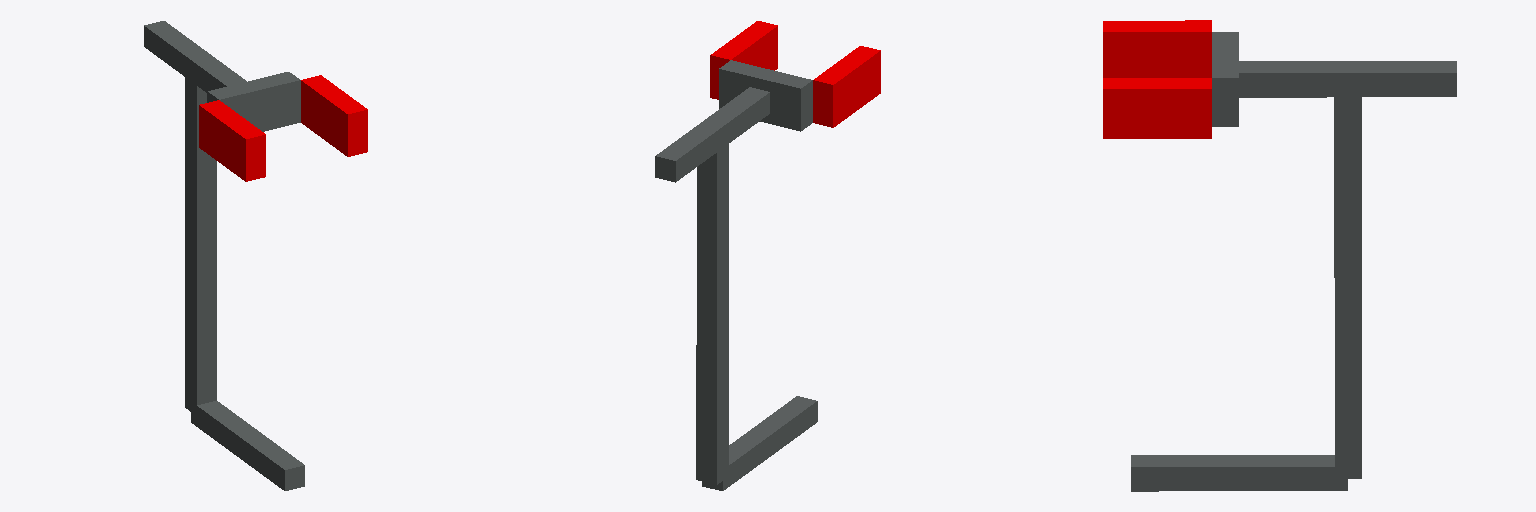
robot.urdf — robot:
<robot name="robot">
    <link name="world" />
    <joint name="base_joint" type="fixed">
        <origin xyz="0 0 0" rpy="-1.57 0 0" />
        <parent link="world" />
        <child link="base" />
    </joint>
    <link name="base">
        <collision>
            <origin xyz="0 0 0" rpy="0 -0 0" />
            <geometry>
                <box size="0.1 0.1 0.8" />
            </geometry>
        </collision>
        <visual>
            <origin xyz="0 0 0" rpy="0 -0 0" />
            <geometry>
                <box size="0.1 0.1 0.8" />
            </geometry>
            <material name="">
                <color rgba="0.403 0.424 0.420 1"/>
            </material>
        </visual>
    </link>
    <joint name="link1_joint" type="revolute">
        <origin xyz="0 0 0.4" rpy="0 1.5708 3.14159" />
        <parent link="base" />
        <child link="link1" />
        <limit effort="0" velocity="0" lower="-3.14159" upper="3.14159" />
    </joint>
    <link name="link1">
        <collision>
            <origin xyz="-0.0 0.4 0" rpy="3.14159 -1.5708 3.14159" />
            <geometry>
                <box size="0.1 0.8 0.1" />
            </geometry>
        </collision>
        <visual>
            <origin xyz="-0.0 0.4 0" rpy="3.14159 -1.5708 3.14159" />
            <geometry>
                <box size="0.1 0.8 0.1" />
            </geometry>
            <material name="">
                <color rgba="0.403 0.424 0.420 1"/>
            </material>
        </visual>
    </link>
    <joint name="link2_joint" type="revolute">
        <origin xyz="-0.0 0.8 0" rpy="0 -0 0" />
        <parent link="link1" />
        <child link="link2" />
        <limit effort="0" velocity="0" lower="-3.14159" upper="3.14159" />
    </joint>
    <link name="link2">
        <collision>
            <origin xyz="-0.0 0.4 0" rpy="3.14159 -1.5708 3.14159" />
            <geometry>
                <box size="0.1 0.8 0.1" />
            </geometry>
        </collision>
        <visual>
            <origin xyz="-0.0 0.4 0" rpy="3.14159 -1.5708 3.14159" />
            <geometry>
                <box size="0.1 0.8 0.1" />
            </geometry>
            <material name="">
                <color rgba="0.403 0.424 0.420 1"/>
            </material>
        </visual>
    </link>
    <joint name="link3_joint" type="prismatic">
        <origin xyz="-0.0 0.8 0" rpy="0 -0 0" />
        <parent link="link2" />
        <child link="link3" />
        <limit effort="0" velocity="0" lower="-0.2" upper="0.15" />
    </joint>
    <link name="link3">
        <collision>
            <origin xyz="0 0 0" rpy="1.5708 -1.5708 3.14159" />
            <geometry>
                <!-- <capsule radius="0.2"length="2" /> -->
                <box size="0.1 0.8 0.1"/>
            </geometry>
        </collision>
        <visual>
            <origin xyz="0 0 0" rpy="1.5708 -1.5708 3.14159" />
            <geometry>
                <!-- <capsule radius="0.2"length="2" /> -->
                <box size="0.1 0.8 0.1"/>
            </geometry>
            <material name="">
                <color rgba="0.403 0.424 0.420 1"/>
            </material>
        </visual>
    </link>
    <joint name="end_effctor_joint" type="revolute">
        <origin xyz="0.4 0 0" rpy="1.5708 -0 3.14159" />
        <parent link="link3" />
        <child link="end_effector" />
        <limit effort="0" velocity="0" lower="-3.14159" upper="3.14159" />
    </joint>
    <link name="end_effector">
        <collision>
            <origin xyz="-0.05 0 0" rpy="0 1.5708 0" />
            <geometry>
                <box size="0.2 0.4 0.1" />
            </geometry>
        </collision>
        <visual>
            <origin xyz="-0.05 0 0" rpy="0 1.5708 0" />
            <geometry>
                <box size="0.2 0.4 0.1" />
            </geometry>
            <material name="">
                <color rgba="0.403 0.424 0.420 1"/>
            </material>
        </visual>
    </link>
    <joint name="left_pad_joint" type="prismatic">
        <origin xyz="-0.05 -0.25 0.0" rpy="0 -0 1.5708" />
        <parent link="end_effector" />
        <child link="left_pad" />
        <limit effort="0" velocity="0" lower="0" upper="0.2" />
    </joint>
    <link name="left_pad">
        <collision>
            <origin xyz="0 0.25 0" rpy="0 -0 0" />
            <geometry>
                <box size="0.1 0.4 0.2" />
            </geometry>
        </collision>
        <visual>
            <origin xyz="0 0.25 0" rpy="0 -0 0" />
            <geometry>
                <box size="0.1 0.4 0.2" />
            </geometry>
            <material name="">
                <color rgba="1 0 0 1"/>
            </material>
        </visual>
    </link>
    <joint name="right_pad_joint" type="prismatic">
        <origin xyz="-0.05 0.25 0.0" rpy="0 -0 1.5708" />
        <parent link="end_effector" />
        <child link="right_pad" />
        <limit effort="0" velocity="0" lower="-0.2" upper="0" />
    </joint>
    <link name="right_pad">
        <collision>
            <origin xyz="0 0.25 0" rpy="0 -0 0" />
            <geometry>
                <box size="0.1 0.4 0.2" />
            </geometry>
        </collision>
        <visual>
            <origin xyz="0 0.25 0" rpy="0 -0 0" />
            <geometry>
                <box size="0.1 0.4 0.2" />
            </geometry>
            <material name="">
                <color rgba="1 0 0 1"/>
            </material>
        </visual>
    </link>
    <!-- <joint name="right_pad_tip_joint" type="fixed">
        <origin xyz="0 0 0" rpy="0 0 0" />
        <parent link="right_pad" />
        <child link="right_pad_tip" />
        <limit effort="0" velocity="0" lower="-0.2" upper="0" />
    </joint>
    <link name="right_pad_tip">
        <collision>
            <origin xyz="0 0.25 0" rpy="0 -0 0" />
            <geometry>
                <box size="0.1 0.4 0.2" />
            </geometry>
        </collision>
        <visual>
            <origin xyz="-0.1 0.4 0" rpy="0 -0 0" />
            <geometry>
                <box size="0.2 0.1 0.2" />
            </geometry>
            <material name="">
                <color rgba="1 0 0 1"/>
            </material>
        </visual>
    </link> -->
</robot>

--- What the picture shows (computed from the rendered views, not written in the file) ---
The picture shows the robot from 3 angles, left to right: view 1: azimuth 30°, elevation 25°; view 2: azimuth 150°, elevation 25°; view 3: azimuth 270°, elevation 25°; orthographic projection.
Model robot with 8 links and 7 joints (3 revolute, 3 prismatic, 1 fixed), rooted at world, posed all joints at 0.
Visible links, largest first — view 1: link1, base, link2, left_pad, right_pad, end_effector, link3; view 2: link1, link2, link3, right_pad, end_effector, base, left_pad; view 3: link3, base, left_pad, right_pad, link2, link1, end_effector.
Boxes of the visible links, bbox=[...] form: link1: bbox=[185, 237, 216, 411]; base: bbox=[191, 401, 304, 490]; link2: bbox=[185, 67, 216, 244]; left_pad: bbox=[301, 75, 367, 156]; right_pad: bbox=[199, 100, 265, 181]; end_effector: bbox=[207, 72, 300, 131]; link3: bbox=[144, 21, 246, 92]; link1: bbox=[696, 305, 728, 484]; link2: bbox=[697, 133, 728, 312]; link3: bbox=[655, 87, 769, 182]; right_pad: bbox=[813, 46, 880, 127]; end_effector: bbox=[719, 60, 812, 131]; base: bbox=[702, 396, 817, 490]; left_pad: bbox=[710, 21, 777, 99]; link3: bbox=[1239, 61, 1456, 97]; base: bbox=[1131, 455, 1347, 491]; left_pad: bbox=[1103, 78, 1211, 138]; right_pad: bbox=[1103, 20, 1211, 77]; link2: bbox=[1334, 85, 1361, 281]; link1: bbox=[1335, 282, 1361, 478]; end_effector: bbox=[1212, 32, 1238, 126].
Size in the robot's own frame: 0.6 by 1.3 by 1.75 metres.
Geometry: primitives only (box / cylinder / sphere), no mesh files.